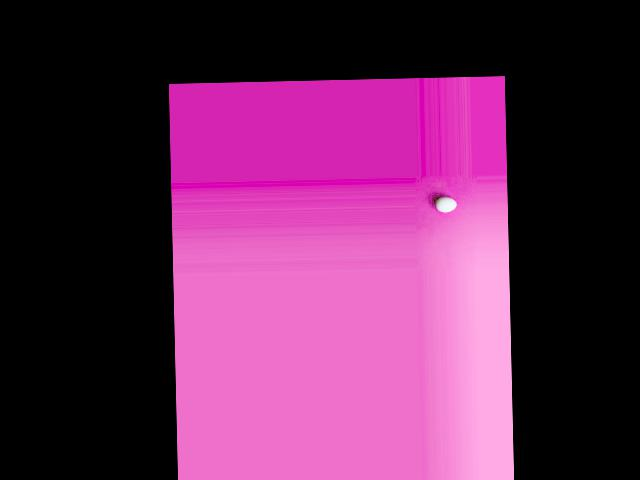egg: (435, 197, 456, 213)
